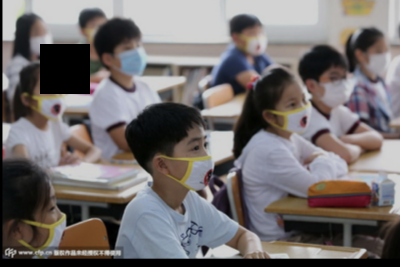with_mask: (31, 193, 67, 256), (180, 134, 215, 193), (35, 79, 67, 122), (282, 94, 314, 136), (322, 70, 354, 110), (117, 38, 148, 78), (28, 25, 54, 57), (367, 44, 392, 75), (245, 27, 269, 58)
